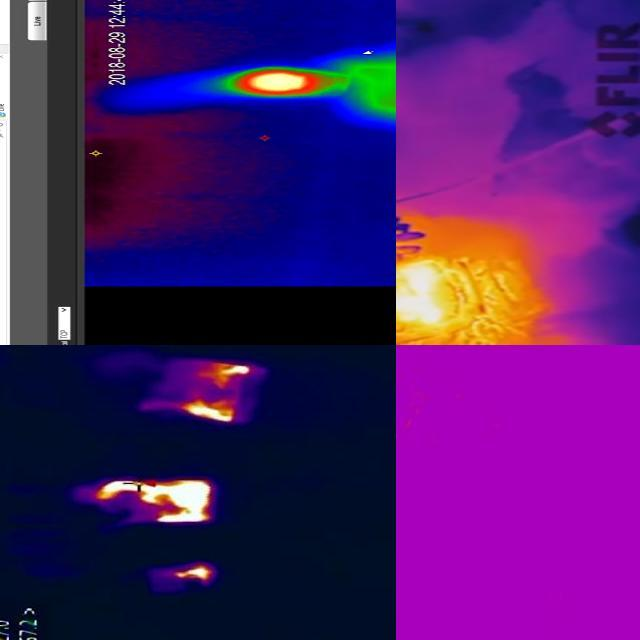fire: (89, 478, 216, 524), (216, 64, 350, 98), (397, 254, 458, 328), (179, 396, 241, 424), (198, 360, 254, 382), (170, 563, 218, 585)
